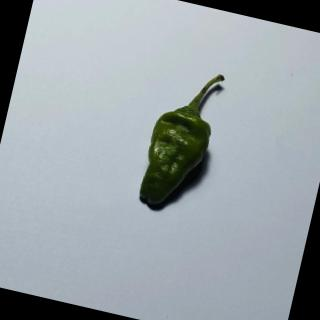Cabai Hijau: (131, 59, 233, 223)
